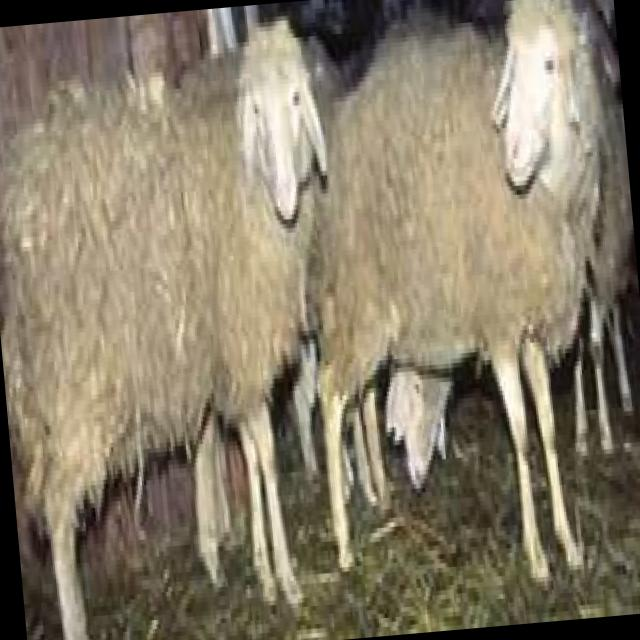animal: (0, 20, 349, 582), (318, 0, 640, 567)
